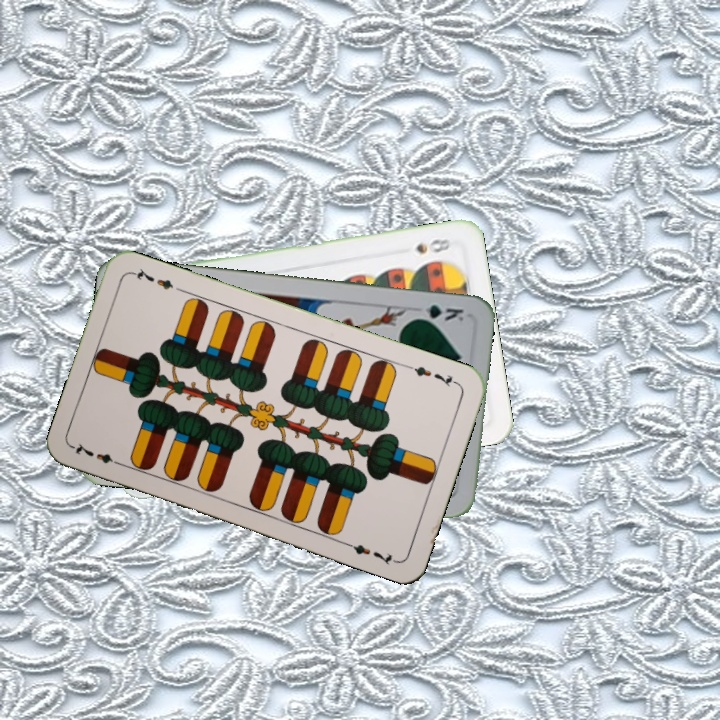E7: (70, 439, 127, 469), (403, 361, 461, 390)
GK: (409, 300, 466, 324)
S8: (411, 235, 458, 256)
